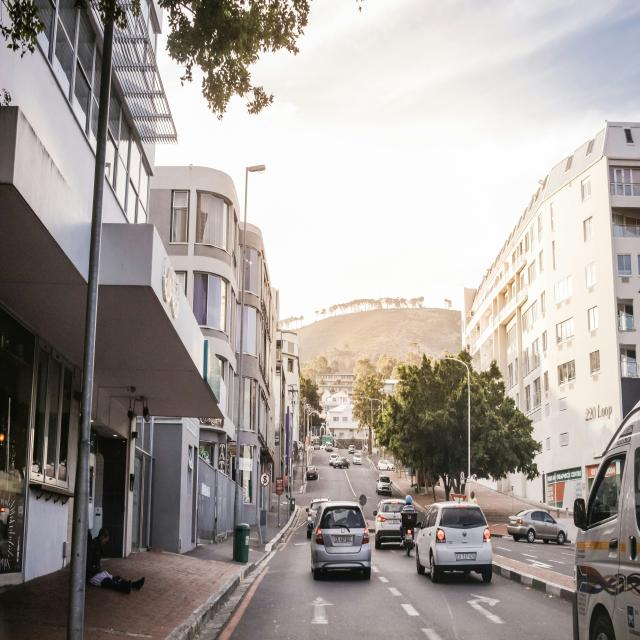Car: (415, 501, 493, 583), (310, 500, 372, 580), (507, 508, 568, 544), (373, 498, 408, 549), (306, 498, 330, 538), (376, 475, 392, 495), (306, 465, 318, 481), (334, 457, 350, 469), (377, 460, 394, 470), (352, 452, 362, 464), (329, 453, 338, 466), (348, 445, 355, 454)
